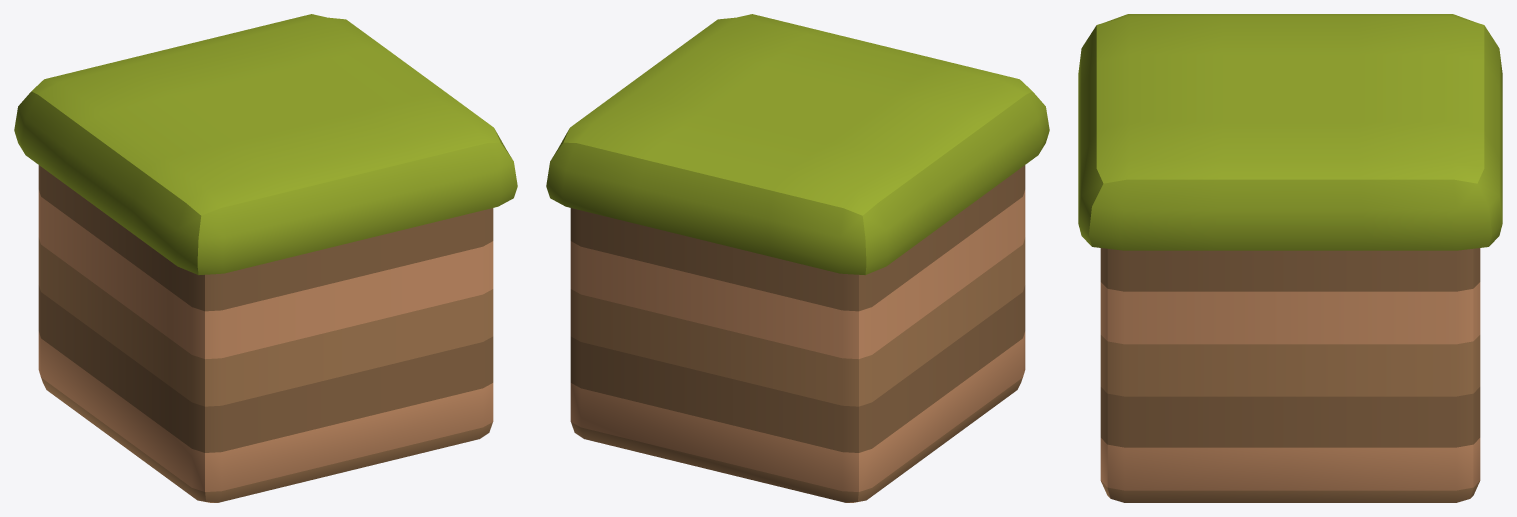
Rendered from Cube_Grass_Single.glb.
3 views of the same model, side by side, from view 1: azimuth 30°, elevation 25°; view 2: azimuth 150°, elevation 25°; view 3: azimuth 270°, elevation 25° (orthographic). The views are drawn at different scales.
Visible parts, largest first — view 1: Cube_Grass_Single; view 2: Cube_Grass_Single; view 3: Cube_Grass_Single.
Part boxes in pixels (x1=…): Cube_Grass_Single: x1=14, y1=14, x2=517, y2=502; Cube_Grass_Single: x1=546, y1=14, x2=1049, y2=502; Cube_Grass_Single: x1=1078, y1=14, x2=1502, y2=502.
Size of the model in its own units: 2.23 by 2 by 2.23.
